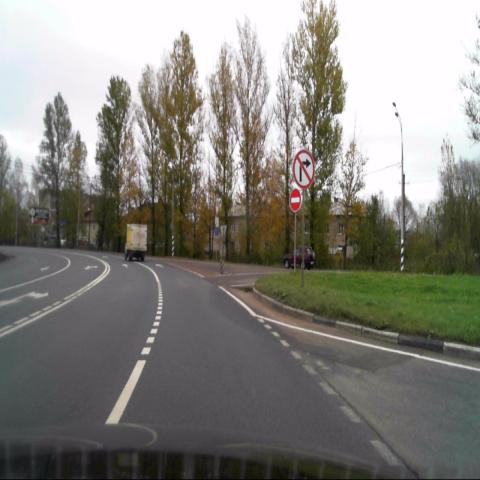3_1: (288, 188, 302, 213)
3_18: (293, 151, 313, 188)
